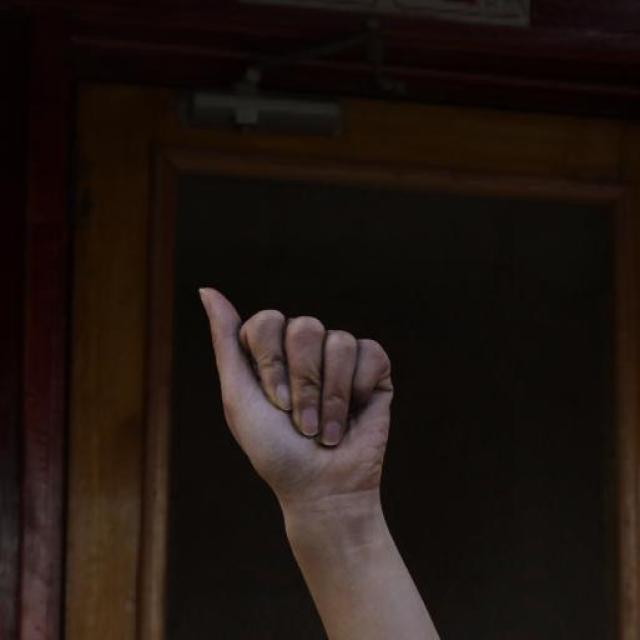A: (195, 282, 400, 516)
